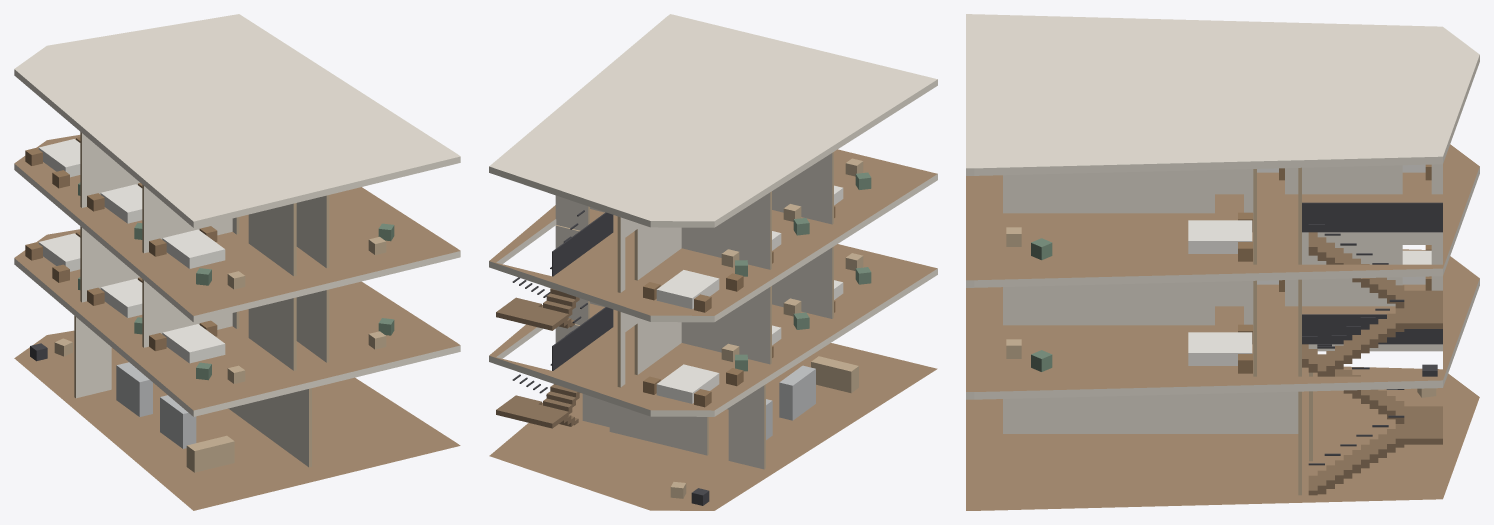
The model's file is interior.glb.
3 views of the same model, side by side, from view 1: azimuth 30°, elevation 25°; view 2: azimuth 150°, elevation 25°; view 3: azimuth 270°, elevation 25° (orthographic). The views are drawn at different scales.
Parts seen in each view (by area): view 1: slabs, partitions, coarse-s2, coarse-s1, coarse-s0; view 2: slabs, partitions, stair, coarse-s1, coarse-s2, coarse-s0; view 3: slabs, partitions, stair, coarse-s1, coarse-s2.
Part boxes in pixels (box(x1,y1,x2,y2)): slabs: box(14, 14, 460, 510); partitions: box(74, 132, 329, 467); coarse-s2: box(25, 137, 394, 289); coarse-s1: box(25, 231, 394, 383); coarse-s0: box(30, 338, 234, 472); slabs: box(489, 14, 937, 510); partitions: box(555, 152, 833, 469); stair: box(496, 210, 613, 428); coarse-s1: box(643, 253, 871, 407); coarse-s2: box(643, 158, 871, 312); coarse-s0: box(670, 356, 858, 505); slabs: box(966, 14, 1479, 510); partitions: box(1003, 164, 1442, 495); stair: box(1302, 202, 1442, 495); coarse-s1: box(1006, 245, 1431, 373); coarse-s2: box(1006, 164, 1431, 261).
Bounding box in the file's own units: 11.36 × 11.78 × 15.98.
